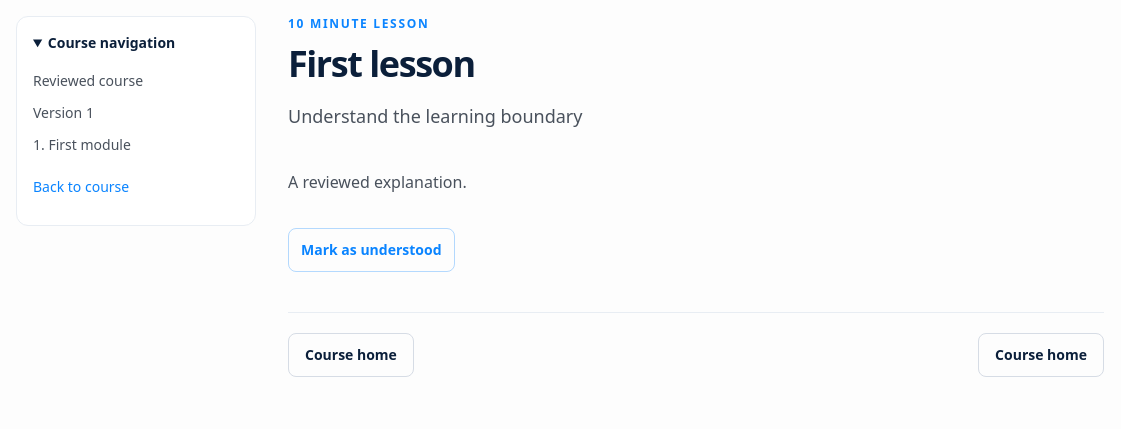
LessonPlayer › keeps the learner's work on screen and announces a recoverable save failure
Step 1. Click the button "Mark as understood" → (371,250), box [288, 228, 454, 272]
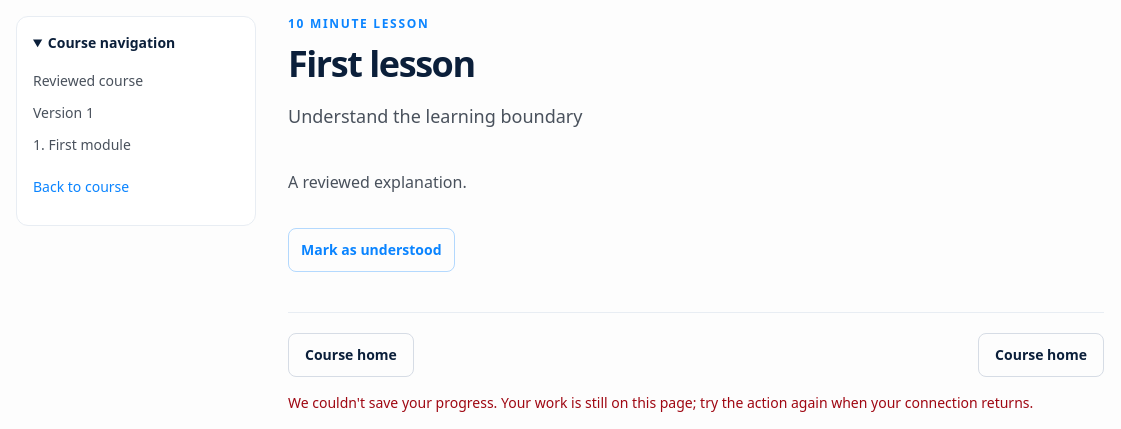
Check: the message shows "couldn't save your progress", box [288, 393, 1033, 412]
